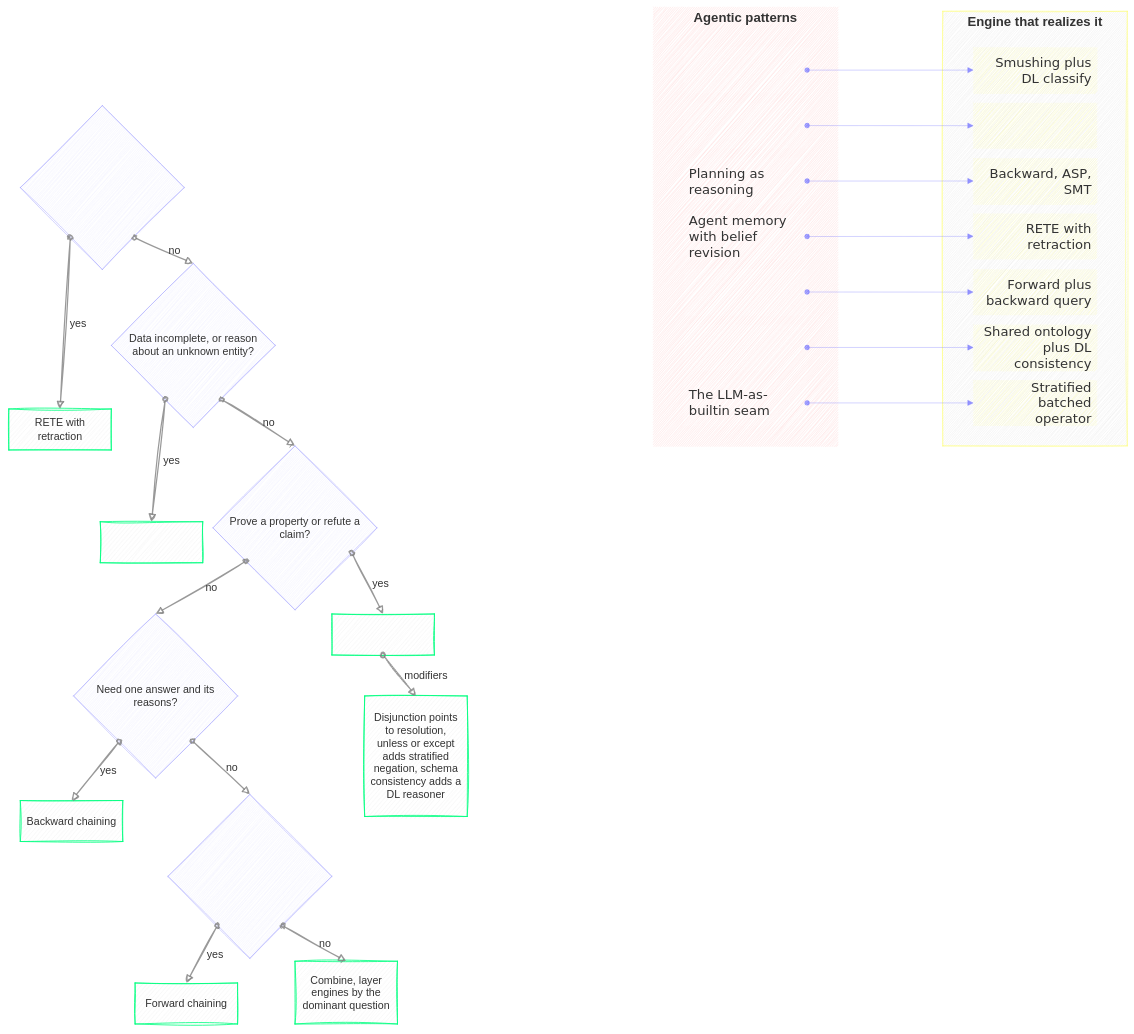
Image size: 1134x1034. Some labels were removed from this diagram. Each missing label, with the centre of its shape:
Backward plus graph closure: (x=1034, y=125)
Grounding and identity: (x=745, y=69)
Guardrails and policy as derived facts: (x=745, y=291)
Input changes continuously, withdraw on basis removal?: (x=102, y=187)
Multi-agent coordination: (x=745, y=347)
Need every consequence materialized?: (x=249, y=876)
Resolution, refutation: (x=383, y=634)
The chase, open-world: (x=151, y=542)
Verifiable graph-structured retrieval: (x=745, y=125)
